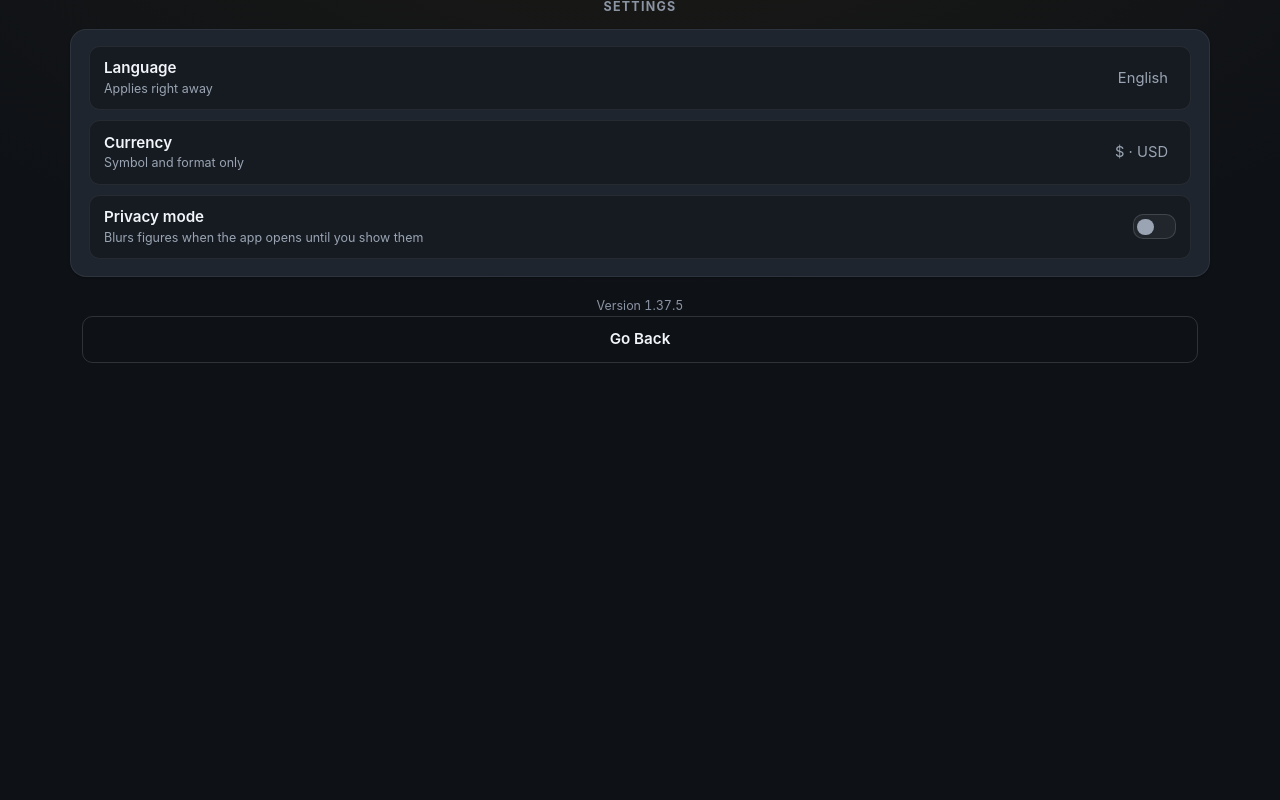
Scenario: Settings › offers every currency in the Currency sheet and remembers the pick
Step 1. Click the button "Currency Symbol and format only $ · USD" → click(138, 142), box [89, 120, 1191, 185]
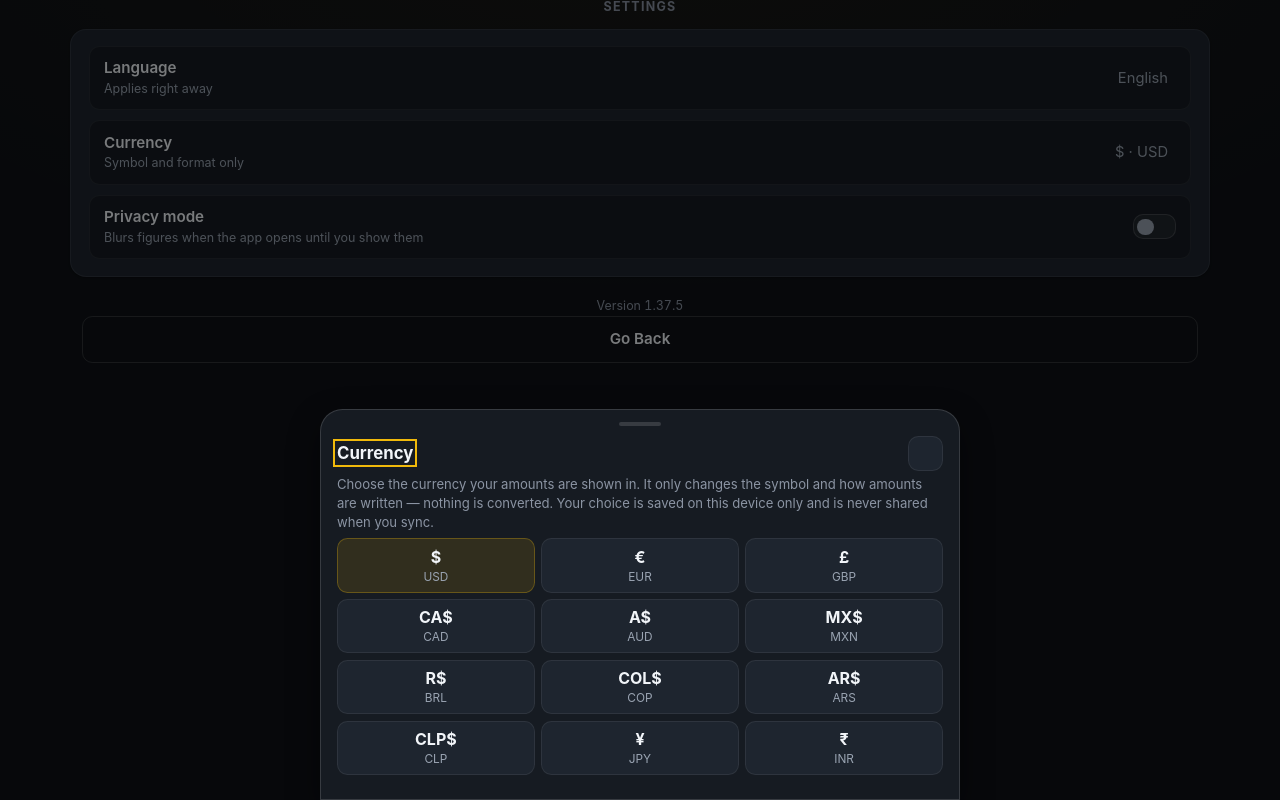
Check: the dialog "Currency" is shown, box [320, 408, 960, 799]
Check: the radio button with aria-label "US Dollar" is checked, box [337, 538, 535, 593]
Step 2. Click the radio button with aria-label "Euro" → click(640, 566), box [541, 538, 739, 593]
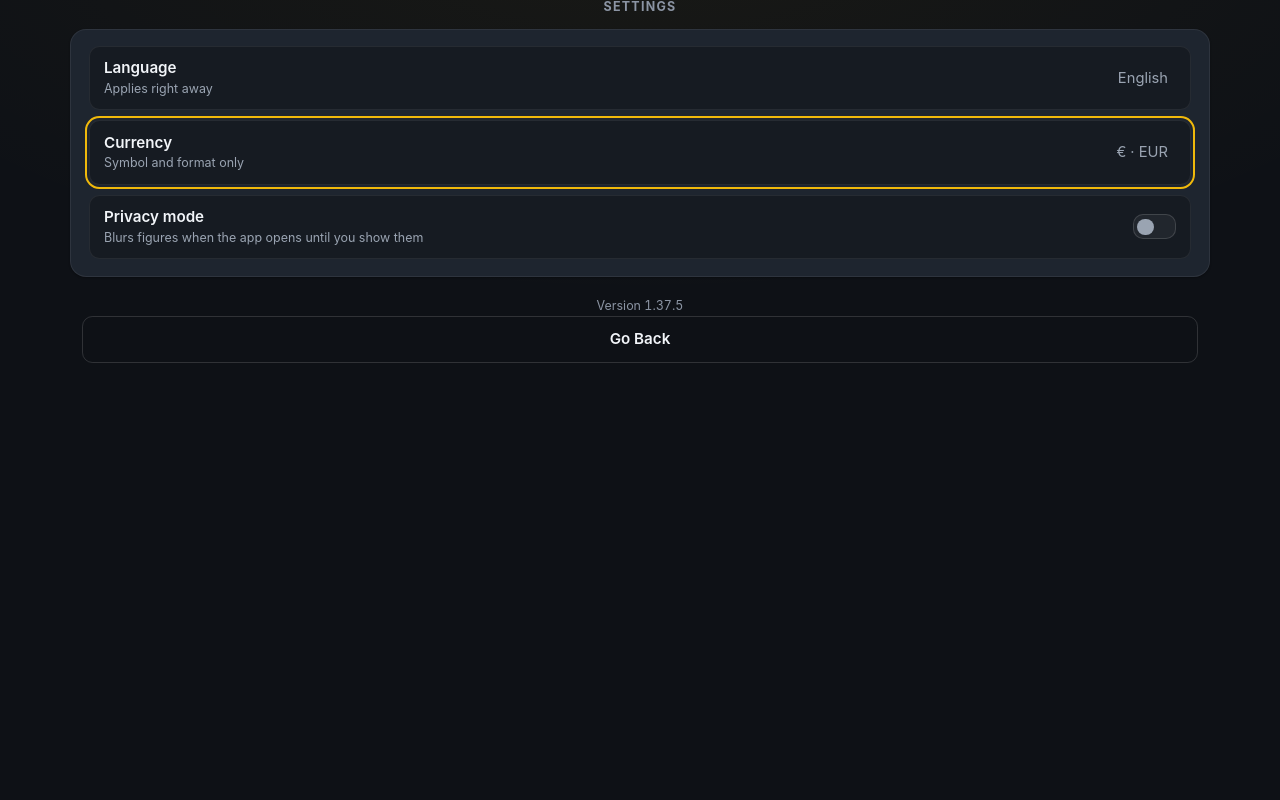
Check: the dialog is gone
Check: the button "Currency Symbol and format only € · EUR" is shown, box [89, 120, 1191, 185]
